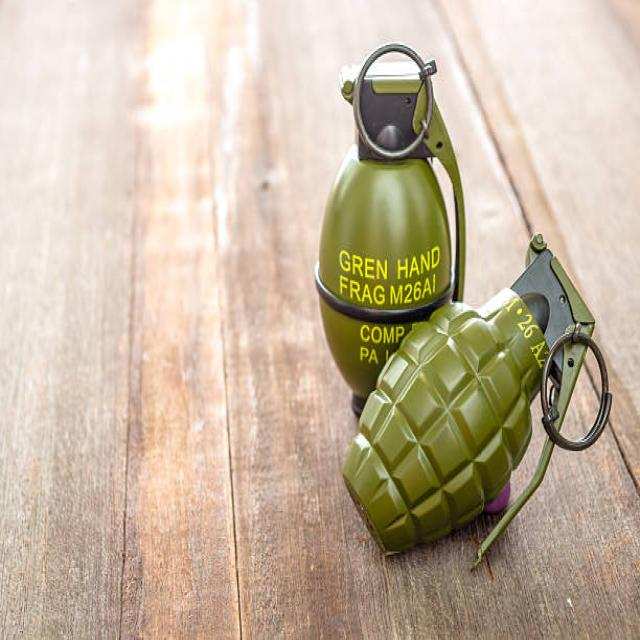grenade: (333, 227, 618, 584)
